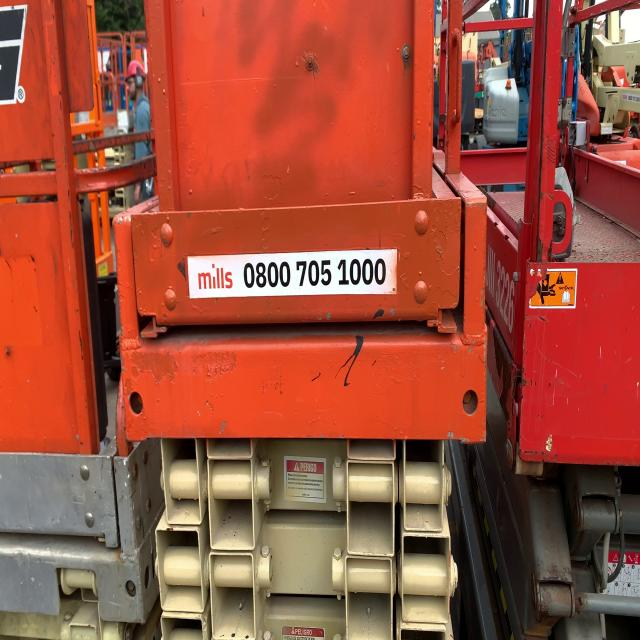Adesivo Longo: (186, 246, 398, 303)
